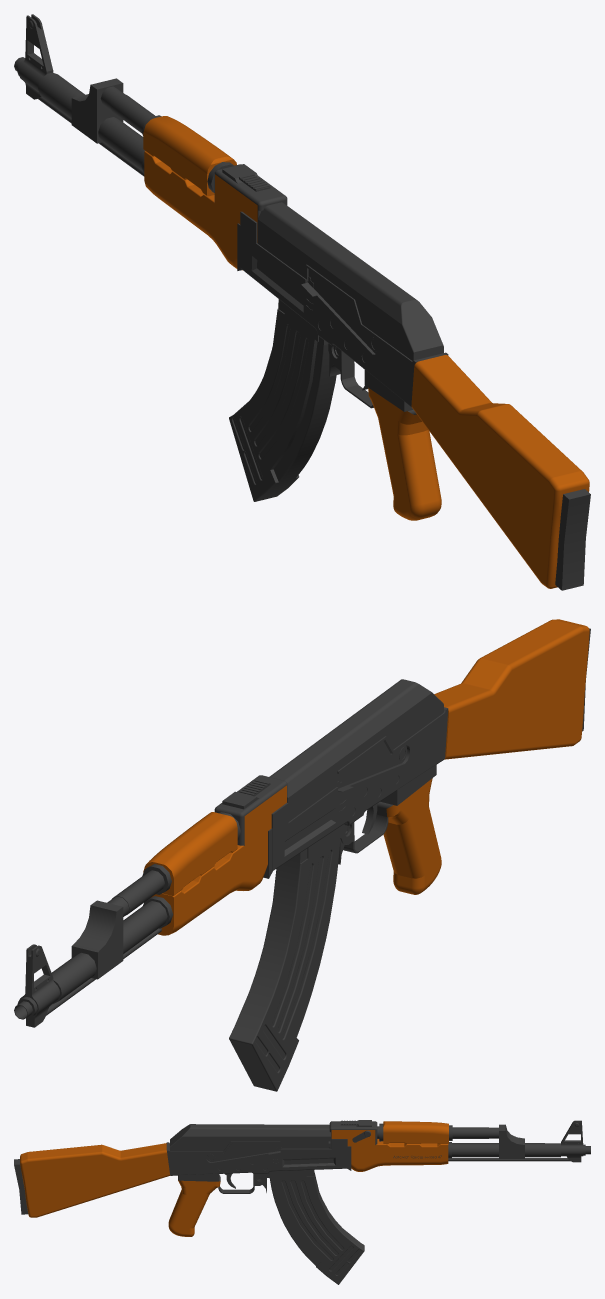
File: gun.dae
The picture shows the model from 3 angles, top to bottom: view 1: azimuth 30°, elevation 25°; view 2: azimuth 150°, elevation 25°; view 3: azimuth 270°, elevation 25°; orthographic projection. The views are drawn at different scales.
Visible parts, largest first — view 1: YFBXASC195FBXASC188kseklik-EkstrFBXASC195FBXASC188zyon44; view 2: YFBXASC195FBXASC188kseklik-EkstrFBXASC195FBXASC188zyon44; view 3: YFBXASC195FBXASC188kseklik-EkstrFBXASC195FBXASC188zyon44.
Boxes of the visible parts, x1,y1,x2,y2 form: YFBXASC195FBXASC188kseklik-EkstrFBXASC195FBXASC188zyon44: [14, 14, 590, 590]; YFBXASC195FBXASC188kseklik-EkstrFBXASC195FBXASC188zyon44: [14, 619, 590, 1091]; YFBXASC195FBXASC188kseklik-EkstrFBXASC195FBXASC188zyon44: [14, 1120, 590, 1284].
Size of the model in its own units: 0.748 by 5.38 by 17.49.
